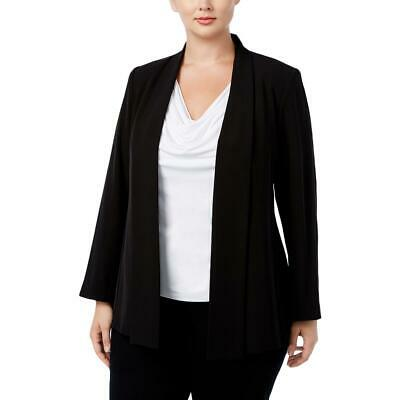F_W_suit jacket: (86, 50, 323, 323)
